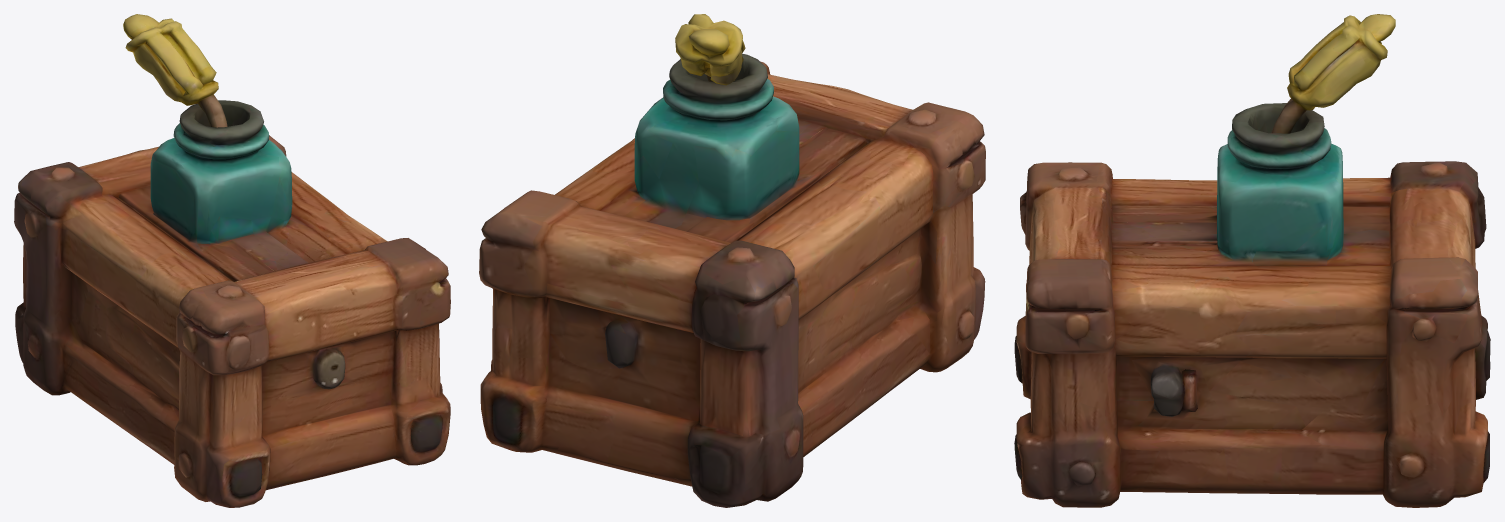
File: crate.glb
3 views of the same model, side by side, from view 1: azimuth 30°, elevation 25°; view 2: azimuth 150°, elevation 25°; view 3: azimuth 270°, elevation 25° (orthographic). The views are drawn at different scales.
Parts seen in each view (by area): view 1: tripo_node_ce9ee397-5769-454e-9c51-29175ac142ab; view 2: tripo_node_ce9ee397-5769-454e-9c51-29175ac142ab; view 3: tripo_node_ce9ee397-5769-454e-9c51-29175ac142ab.
Part boxes in pixels (left/top/right/bottom): tripo_node_ce9ee397-5769-454e-9c51-29175ac142ab: left=14, top=14, right=450, bottom=507; tripo_node_ce9ee397-5769-454e-9c51-29175ac142ab: left=479, top=14, right=985, bottom=507; tripo_node_ce9ee397-5769-454e-9c51-29175ac142ab: left=1014, top=14, right=1490, bottom=507.
Size of the model in its own units: 0.6977 by 0.9544 by 1.
1 material, 1 textured.
